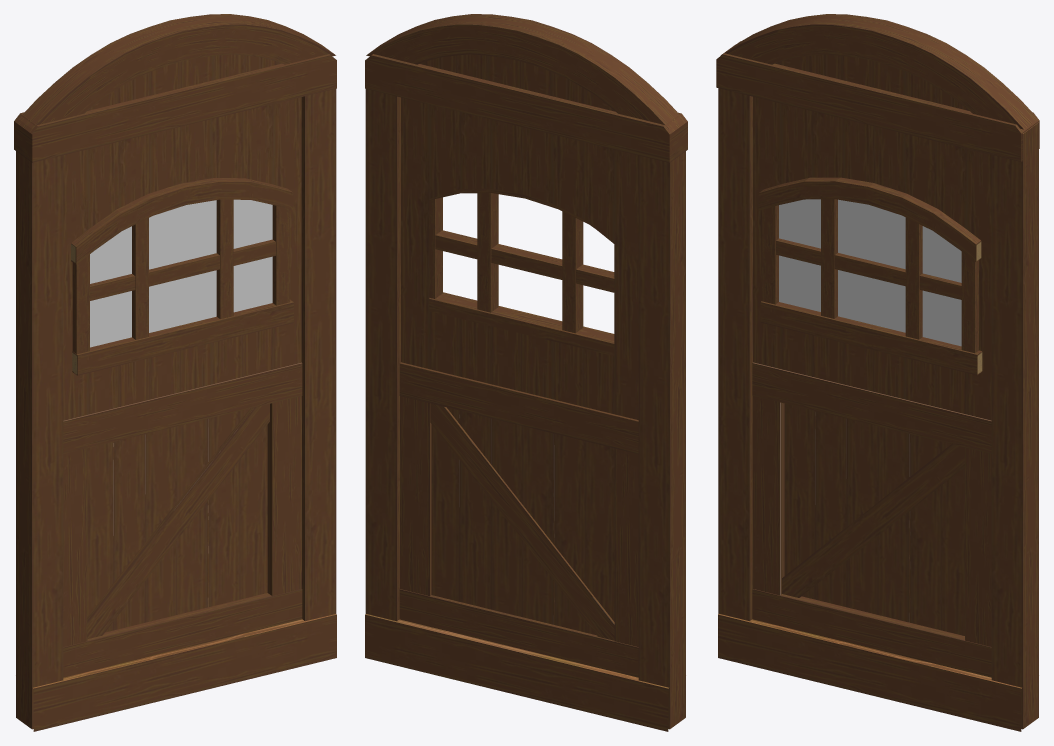
File: door-1-round.glb
3 renders of one model, left to right at view 1: azimuth 30°, elevation 25°; view 2: azimuth 150°, elevation 25°; view 3: azimuth 330°, elevation 25°, orthographic.
Parts seen in each view (by area): view 1: Door_1_Round; view 2: Door_1_Round; view 3: Door_1_Round.
Boxes of the visible parts, x1,y1,x2,y2 form: Door_1_Round: [14, 14, 336, 731]; Door_1_Round: [365, 14, 687, 731]; Door_1_Round: [716, 14, 1039, 731].
Bounding box in the file's own units: 1.12 × 2.32 × 0.1207.
2 materials, 1 textured.
